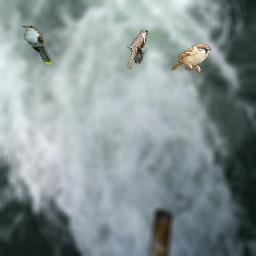Cuckoo: (22, 25, 52, 65), (127, 30, 148, 70)
Sparrow: (171, 44, 211, 73)
